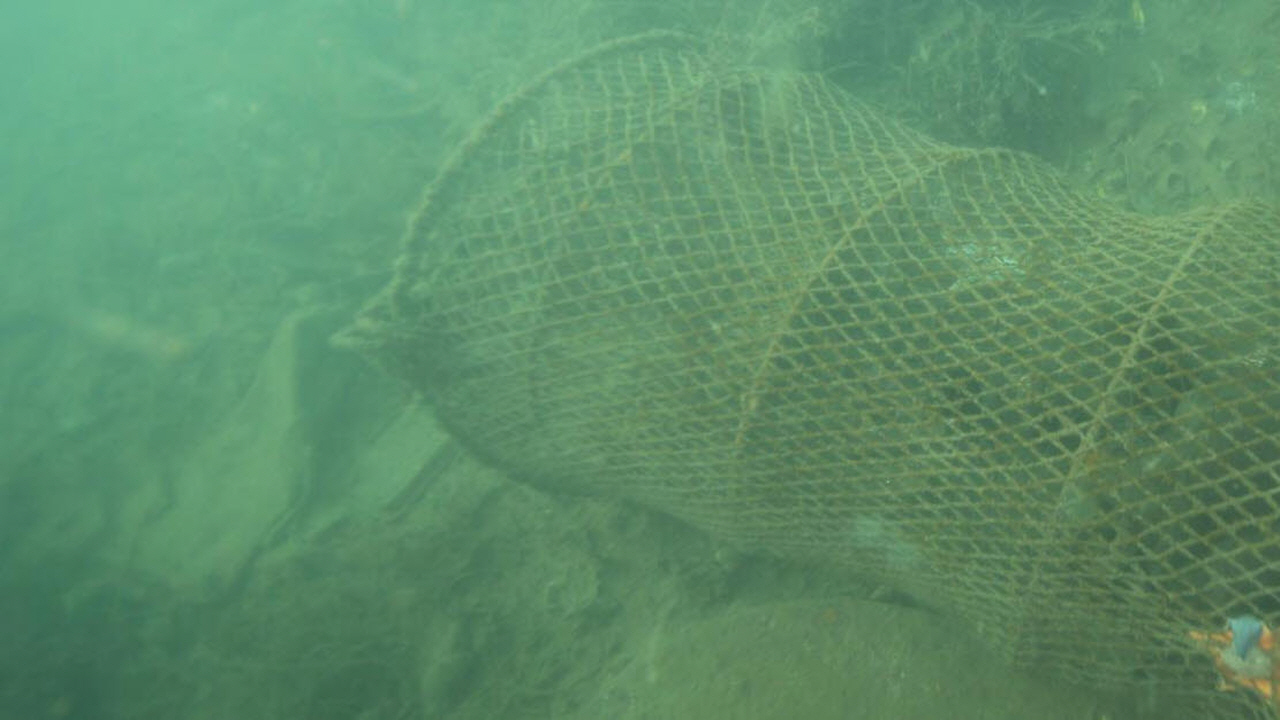spring fish trap: (385, 29, 1280, 720)
